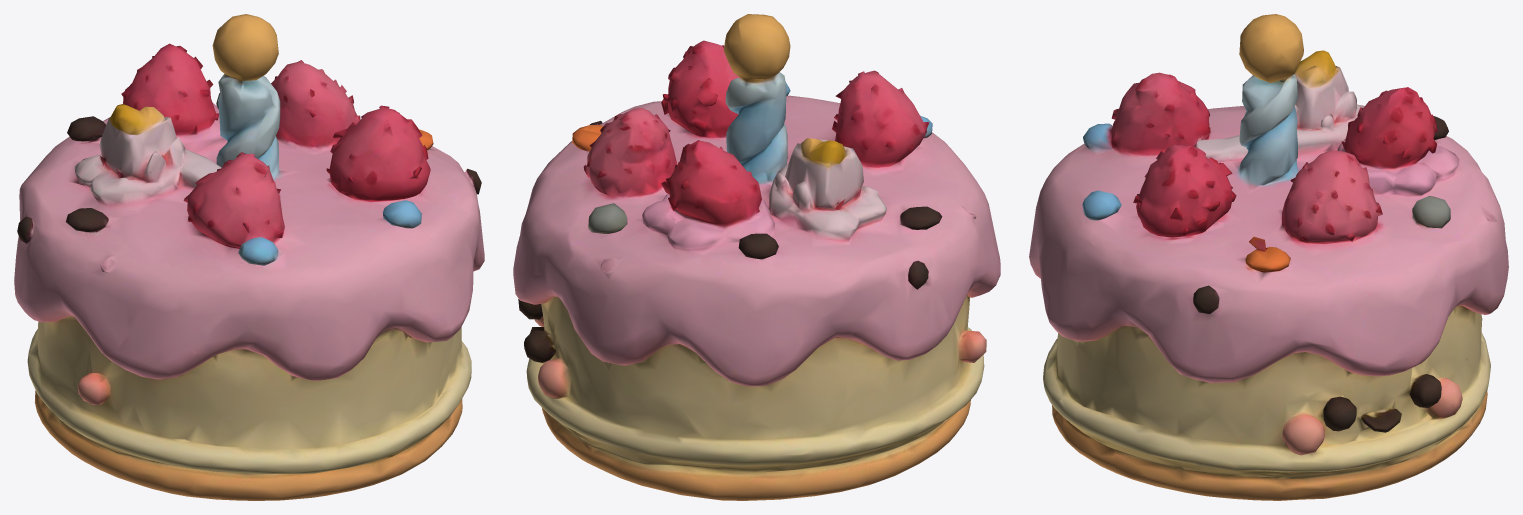
The model's file is cake.glb.
3 renders of one model, left to right at view 1: azimuth 30°, elevation 25°; view 2: azimuth 150°, elevation 25°; view 3: azimuth 270°, elevation 25°, orthographic.
Parts seen in each view (by area): view 1: tripo_node_9f520820-c2b5-4cd3-a750-6b15d42ada6d; view 2: tripo_node_9f520820-c2b5-4cd3-a750-6b15d42ada6d; view 3: tripo_node_9f520820-c2b5-4cd3-a750-6b15d42ada6d.
Part boxes in pixels (<box>): tripo_node_9f520820-c2b5-4cd3-a750-6b15d42ada6d: <box>14,14,484,500</box>; tripo_node_9f520820-c2b5-4cd3-a750-6b15d42ada6d: <box>513,14,1000,500</box>; tripo_node_9f520820-c2b5-4cd3-a750-6b15d42ada6d: <box>1029,14,1508,500</box>.
Size of the model in its own units: 0.9964 by 0.921 by 1.
1 material, 1 textured.
